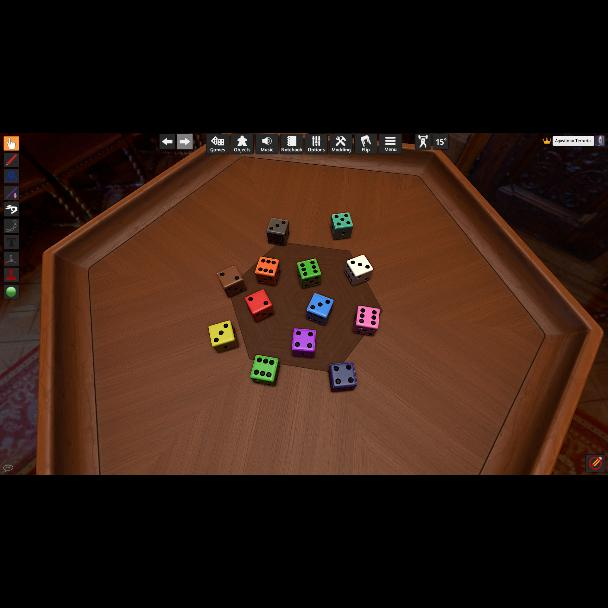d6: (244, 290, 274, 322), (216, 266, 246, 298), (344, 254, 374, 286), (305, 292, 333, 326), (208, 321, 238, 352), (250, 356, 280, 386), (354, 306, 380, 336), (254, 256, 280, 286), (330, 362, 356, 392), (292, 328, 316, 358), (296, 259, 320, 289), (266, 218, 288, 248), (330, 212, 352, 241)
